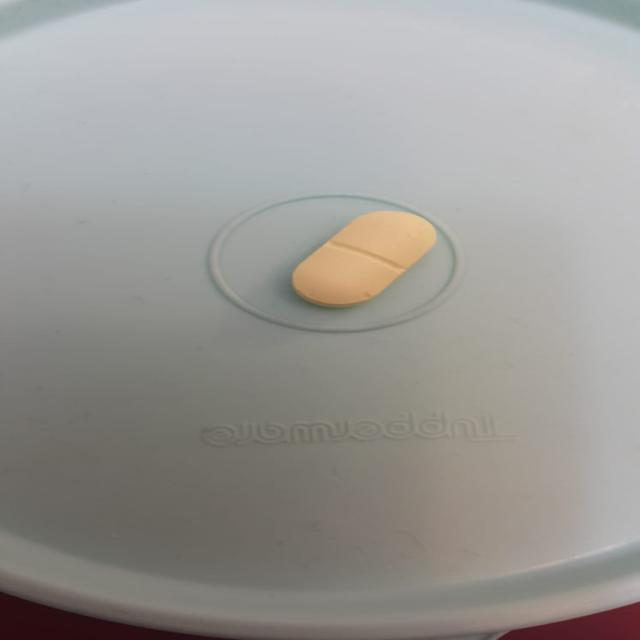pills: (266, 196, 454, 314)
